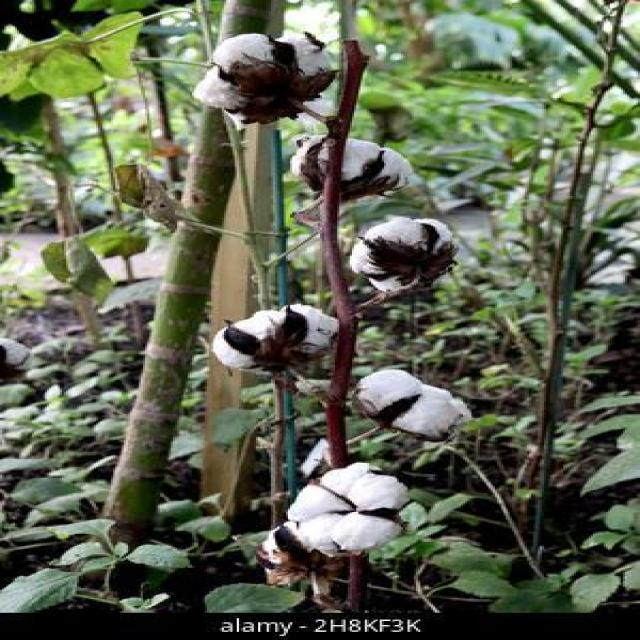Late_blight: (190, 28, 340, 124), (275, 464, 416, 554), (207, 302, 338, 375), (288, 132, 426, 201), (346, 215, 458, 289), (356, 370, 470, 437)
